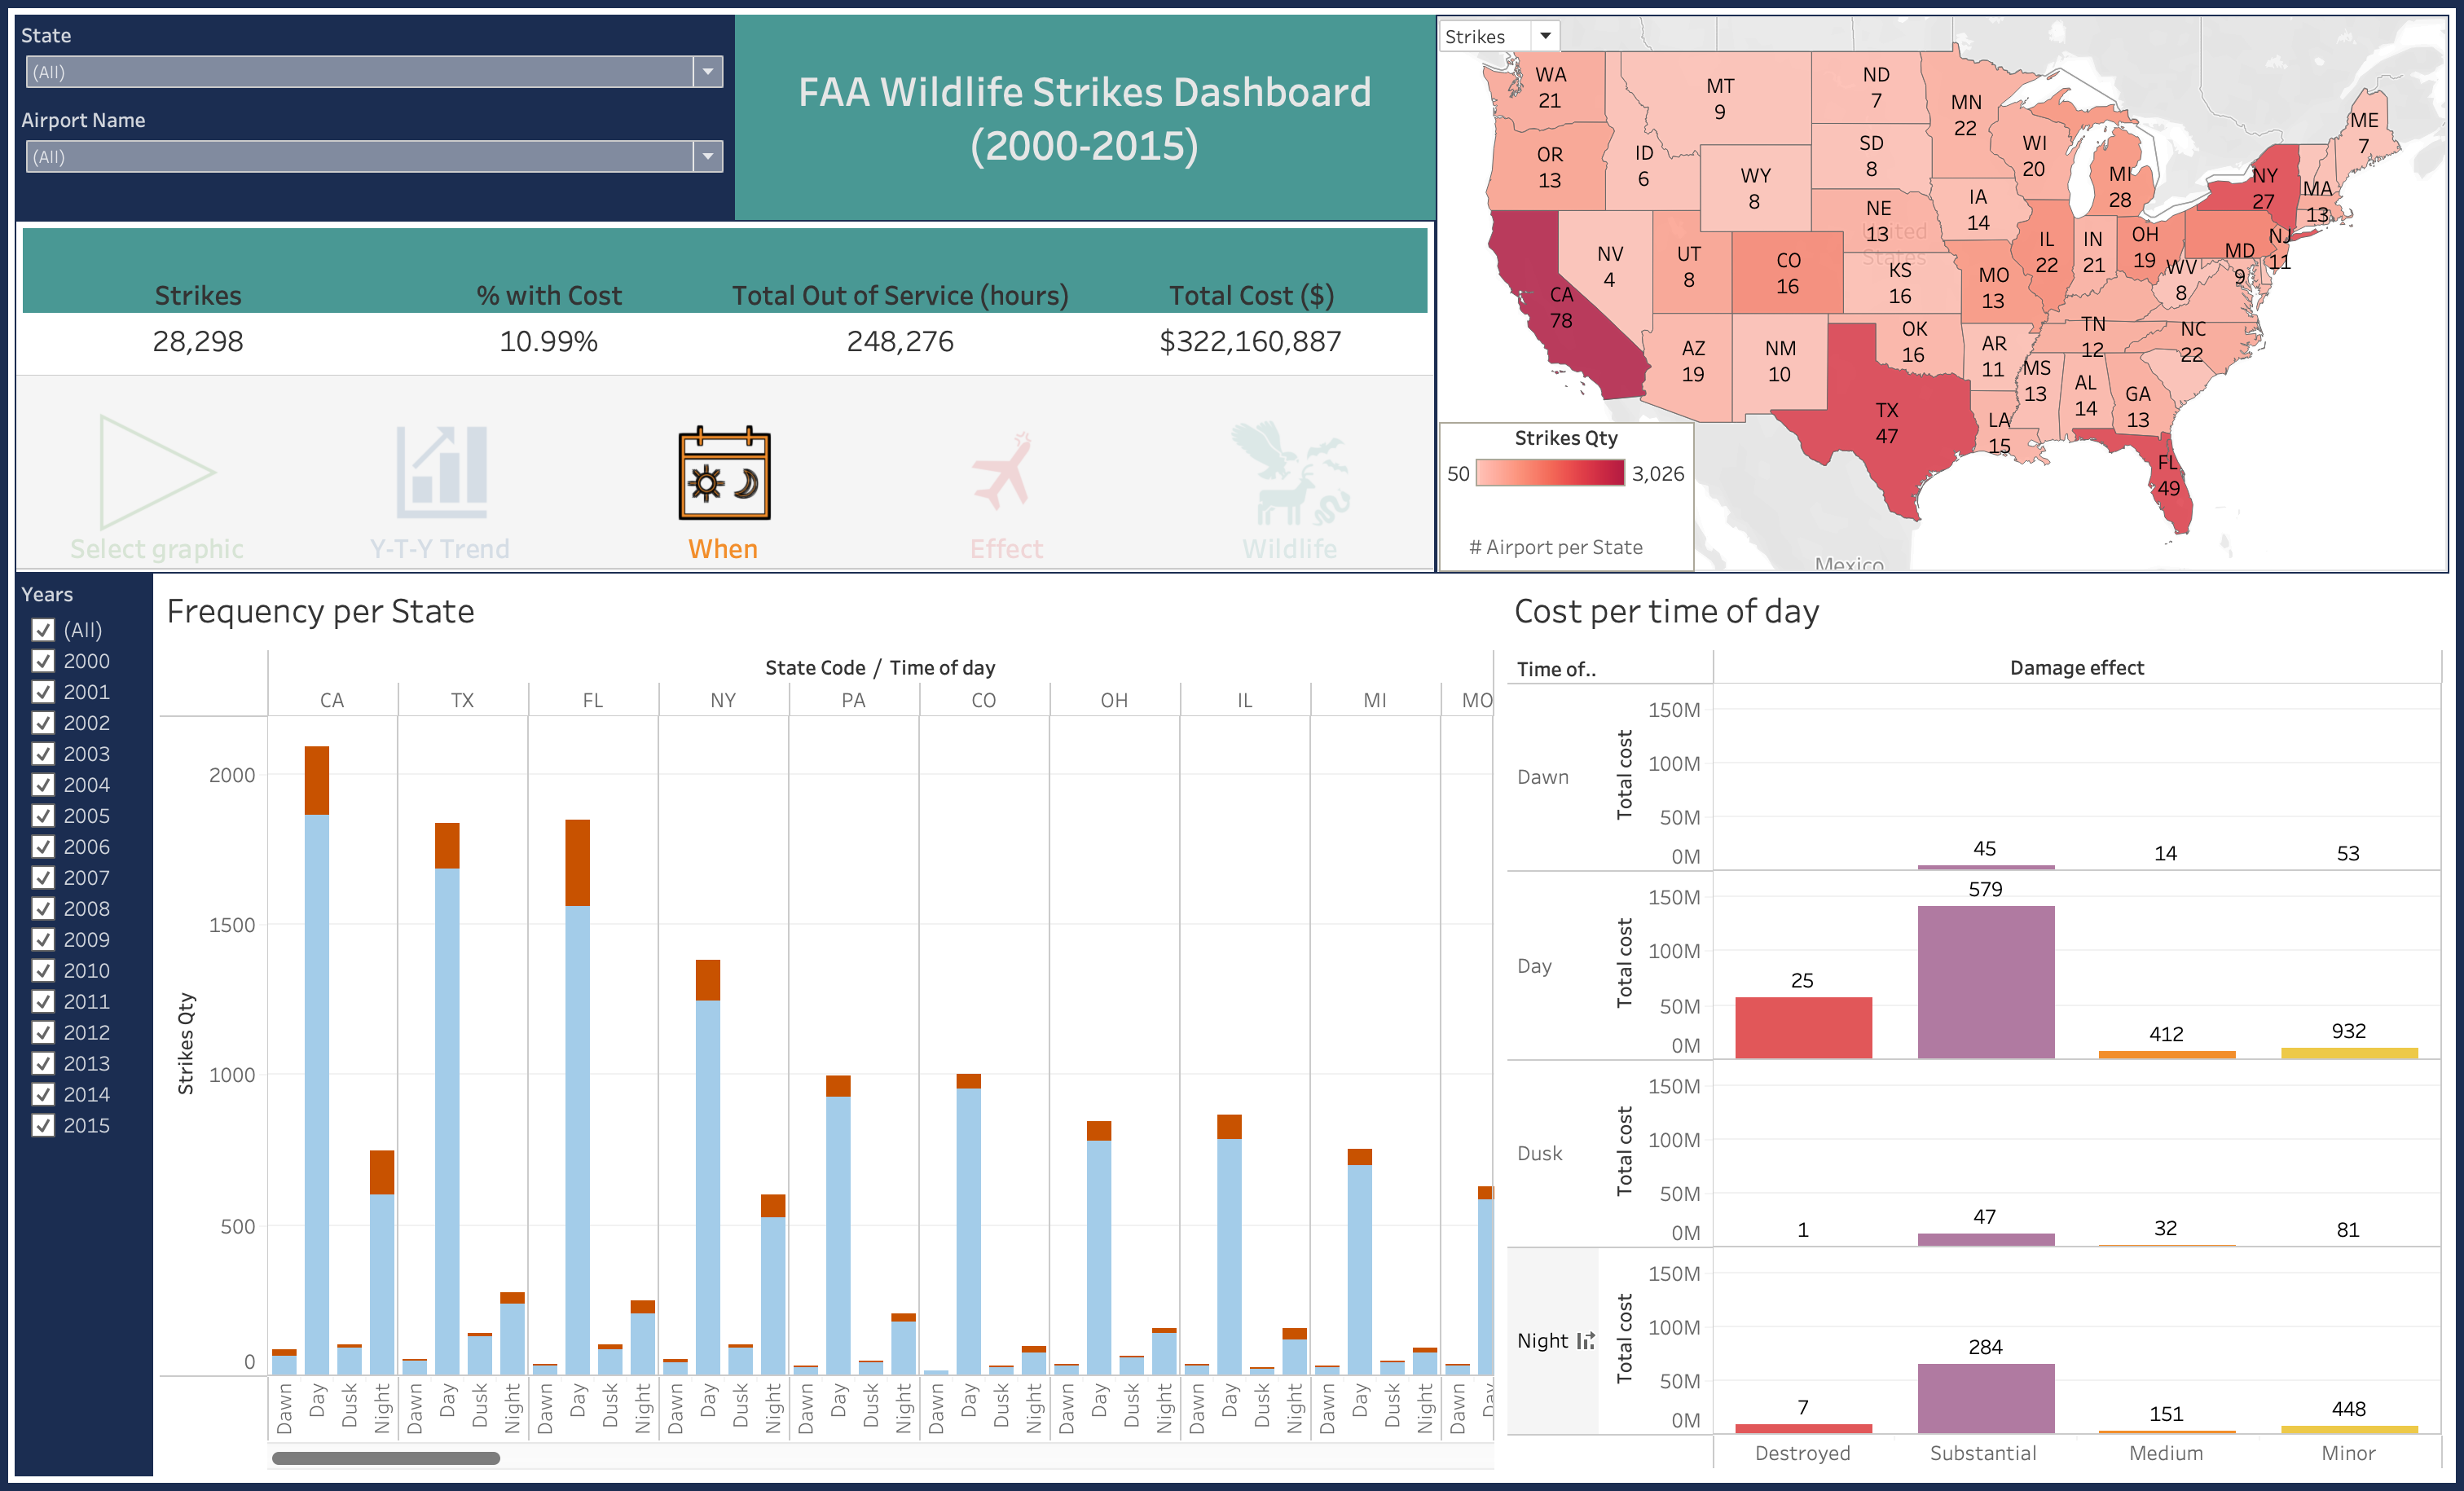

This screenshot's page, from the dashboard's own definition file:
{"tool":"tableau","page":{"name":"FAA Dashboard","canvas":[1000,1000],"units":"permille","ordinal":2},"visuals":[{"type":"worksheet","title":"Cost of damage per qty of airport","mark":"Automatic","box":[583.4,10.9,410,372.8]},{"type":"filter","title":"Metrics","param":"[federated.05t35c50m0xzt915gz8fk0yyn7wb].[none:State:nk]","box":[6.9,11.5,291.8,66.5]},{"type":"text","box":[298.7,11.5,283.8,137.3]},{"type":"parameter","param":"[Parameters].[Parameter 1]","box":[581.9,11.5,53.8,25.6]},{"type":"worksheet","title":"Strikes per State","mark":"Automatic","box":[583.2,12.8,409.1,371.1]},{"type":"filter","title":"Metrics","param":"[federated.05t35c50m0xzt915gz8fk0yyn7wb].[none:Airport_Name:nk]","box":[6.9,78,291.8,66.5]},{"type":"worksheet","title":"Metrics","mark":"Automatic","box":[7.7,150.1,574,120.2]},{"type":"worksheet","title":"Graphic selection","mark":"Shape","cols":["Categories"],"box":[7.7,270.3,574,113.6]},{"type":"legend","title":"Strikes per State","param":"[federated.05t35c50m0xzt915gz8fk0yyn7wb].[sum:Strikes_Qty:qk]","box":[584.2,282.6,103.8,101]},{"type":"legend","title":"Cost of damage per qty of airport","param":"[federated.05t35c50m0xzt915gz8fk0yyn7wb].[sum:Total_cost:qk]","box":[584.2,282.6,103.8,101]},{"type":"text","box":[594.4,346.4,82.7,39.1]},{"type":"text","box":[63,384.9,930.1,603.6]},{"type":"legend","title":"Cost per species","param":"[federated.05t35c50m0xzt915gz8fk0yyn7wb].[sum:Strikes_Qty:qk]","box":[63,384.9,129.1,83.1]},{"type":"worksheet","title":"Strikes over time","mark":"Automatic","rows":["Animal_Category","Strikes_Qty"],"cols":["Collision_DateTime"],"box":[63,384.9,465,603.6]},{"type":"worksheet","title":"Frequency per State","mark":"Automatic","rows":["Strikes_Qty"],"cols":["State_Code","Time_of_day"],"box":[63,384.9,635.7,603.6]},{"type":"legend","title":"Out of service hours","param":"[federated.05t35c50m0xzt915gz8fk0yyn7wb].[none:Damage_effect:nk]","box":[63,384.9,101.5,603.6]},{"type":"worksheet","title":"Distribution of effect per category","mark":"Automatic","rows":["Animal_Category"],"cols":["Damage_effect"],"box":[164.5,384.9,457.3,148.3]},{"type":"worksheet","title":"Cost per species","mark":"Automatic","rows":["Animal_Category","Species_Order","Species_Group","Species"],"cols":["Time_of_day"],"box":[192.2,384.9,538,603.6]},{"type":"worksheet","title":"Cost over time","mark":"Automatic","rows":["Animal_Category","Total_cost"],"cols":["Collision_DateTime"],"box":[528.1,384.9,465,603.6]},{"type":"worksheet","title":"Out of service hours","mark":"Area","rows":["Out_of_service_h"],"cols":["Collision_DateTime"],"box":[621.8,384.9,371.2,603.6]},{"type":"worksheet","title":"Cost per time of day","mark":"Automatic","rows":["Time_of_day","Total_cost"],"cols":["Damage_effect"],"box":[698.7,384.9,294.4,603.6]},{"type":"web page","param":"https://science.ebird.org/en/status-and-trends/species?_gl=1%2a1fiazpz%2a_ga%2aM","box":[730.2,384.9,262.9,603.6]},{"type":"filter","title":"Metrics","param":"[federated.05t35c50m0xzt915gz8fk0yyn7wb].[yr:Collision_DateTime:ok]","box":[6.9,385.2,55.9,454]},{"type":"legend","title":"Cost per species","param":"[federated.05t35c50m0xzt915gz8fk0yyn7wb].[sum:Total_cost:qk]","box":[63,468,129.1,135.6]},{"type":"worksheet","title":"Cost per phase of flight","mark":"Automatic","rows":["Total_cost"],"cols":["Phase_of_flight"],"box":[164.5,533.2,457.3,232.7]},{"type":"worksheet","title":"Engine effect","mark":"Automatic","rows":["Strikes_Qty","Total_cost"],"cols":["Engines_Qty"],"box":[164.5,766,457.3,222.5]}]}

Visuals, with their boxes on the dashboard's canvas, which has no fixed pixel size, in thousandths of its width and height (x1, y1, x2, y2). These are canvas units, not pixel positions in the 2464x1491 screenshot, which may show the page scaled, cropped or inside an application window:
"Cost of damage per qty of airport" worksheet: (x1=583, y1=11, x2=993, y2=384)
"Metrics" filter: (x1=7, y1=12, x2=299, y2=78)
text: (x1=299, y1=12, x2=582, y2=149)
parameter: (x1=582, y1=12, x2=636, y2=37)
"Strikes per State" worksheet: (x1=583, y1=13, x2=992, y2=384)
"Metrics" filter: (x1=7, y1=78, x2=299, y2=144)
"Metrics" worksheet: (x1=8, y1=150, x2=582, y2=270)
"Graphic selection" worksheet (Shape marks): (x1=8, y1=270, x2=582, y2=384)
"Strikes per State" legend: (x1=584, y1=283, x2=688, y2=384)
"Cost of damage per qty of airport" legend: (x1=584, y1=283, x2=688, y2=384)
text: (x1=594, y1=346, x2=677, y2=386)
text: (x1=63, y1=385, x2=993, y2=988)
"Cost per species" legend: (x1=63, y1=385, x2=192, y2=468)
"Strikes over time" worksheet: (x1=63, y1=385, x2=528, y2=988)
"Frequency per State" worksheet: (x1=63, y1=385, x2=699, y2=988)
"Out of service hours" legend: (x1=63, y1=385, x2=164, y2=988)
"Distribution of effect per category" worksheet: (x1=164, y1=385, x2=622, y2=533)
"Cost per species" worksheet: (x1=192, y1=385, x2=730, y2=988)
"Cost over time" worksheet: (x1=528, y1=385, x2=993, y2=988)
"Out of service hours" worksheet (Area marks): (x1=622, y1=385, x2=993, y2=988)
"Cost per time of day" worksheet: (x1=699, y1=385, x2=993, y2=988)
web page: (x1=730, y1=385, x2=993, y2=988)
"Metrics" filter: (x1=7, y1=385, x2=63, y2=839)
"Cost per species" legend: (x1=63, y1=468, x2=192, y2=604)
"Cost per phase of flight" worksheet: (x1=164, y1=533, x2=622, y2=766)
"Engine effect" worksheet: (x1=164, y1=766, x2=622, y2=988)
